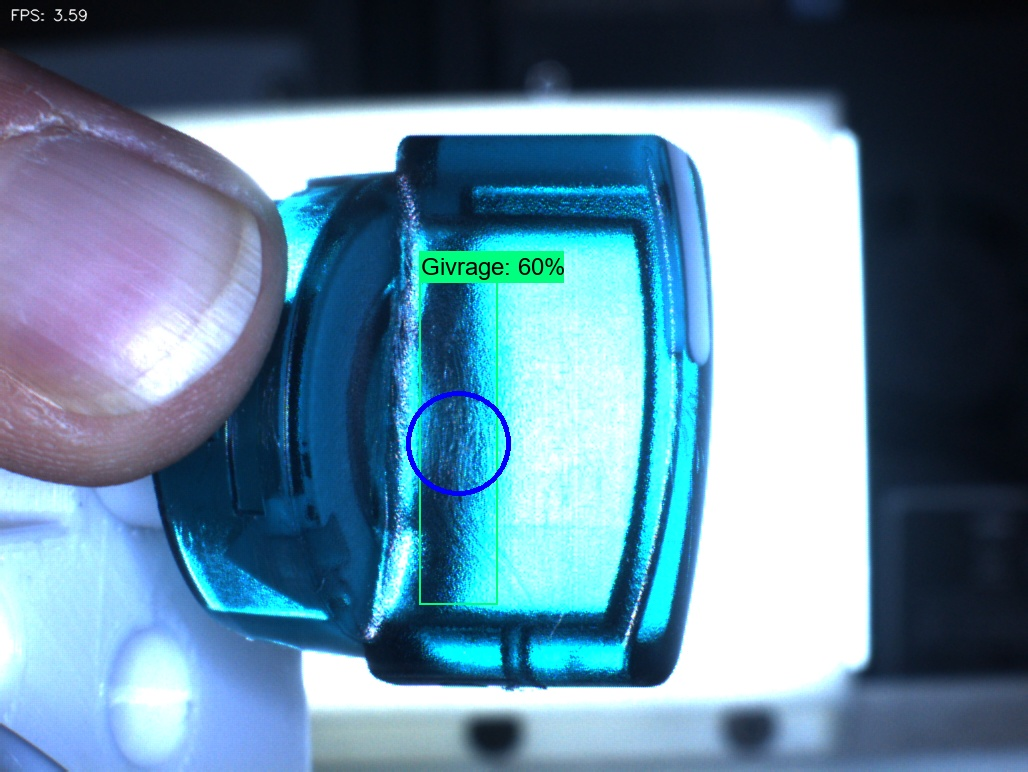Bulle: (463, 606, 572, 719)
